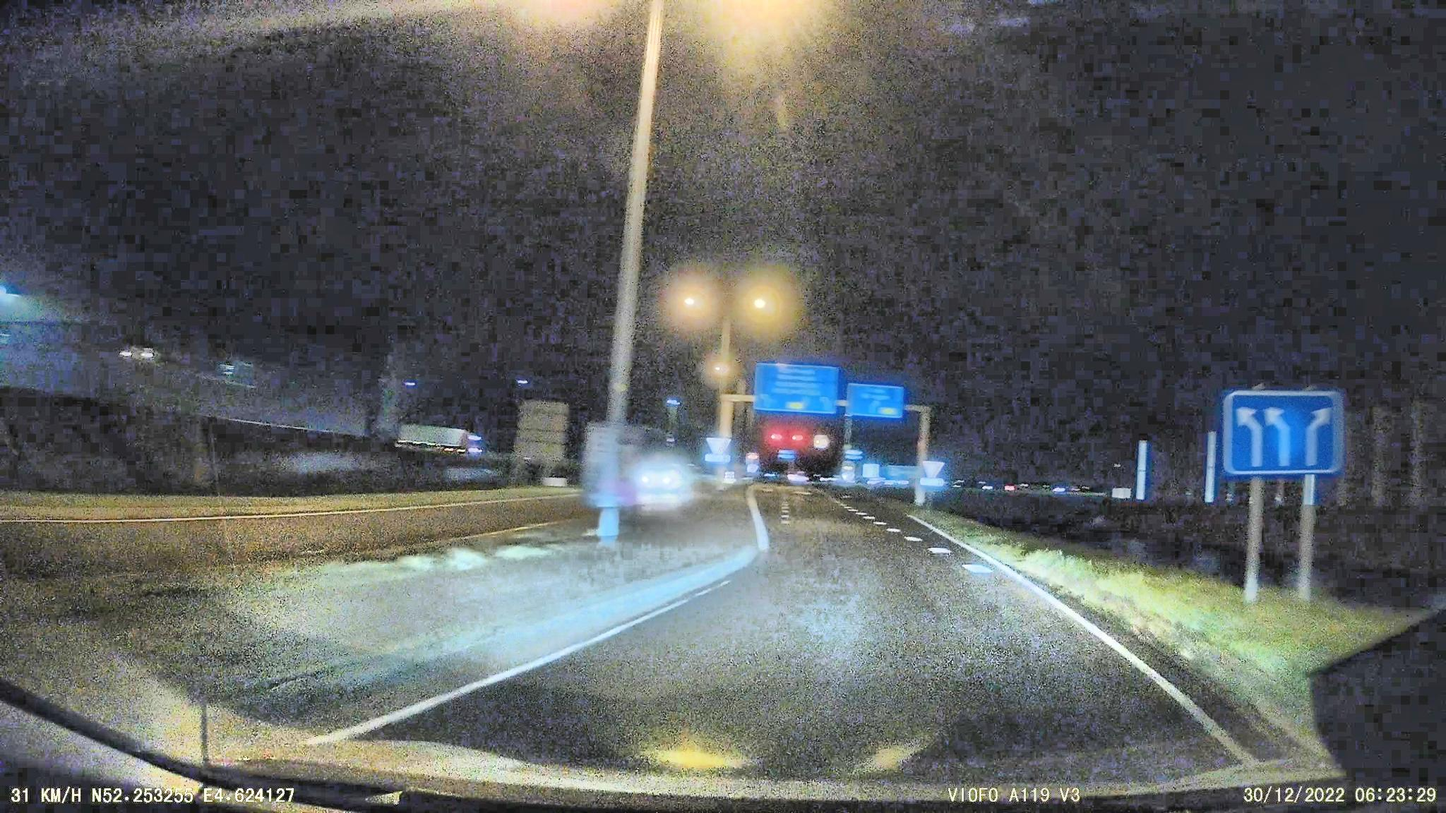Roads: (301, 487, 1308, 804)
